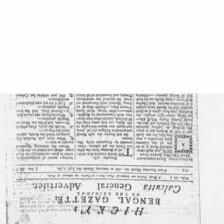news_paper: (0, 90, 202, 224)
